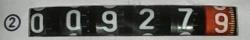digits: (95, 10, 117, 32), (137, 8, 154, 29), (177, 8, 194, 28), (65, 9, 81, 30), (213, 12, 228, 32), (30, 13, 44, 32)
